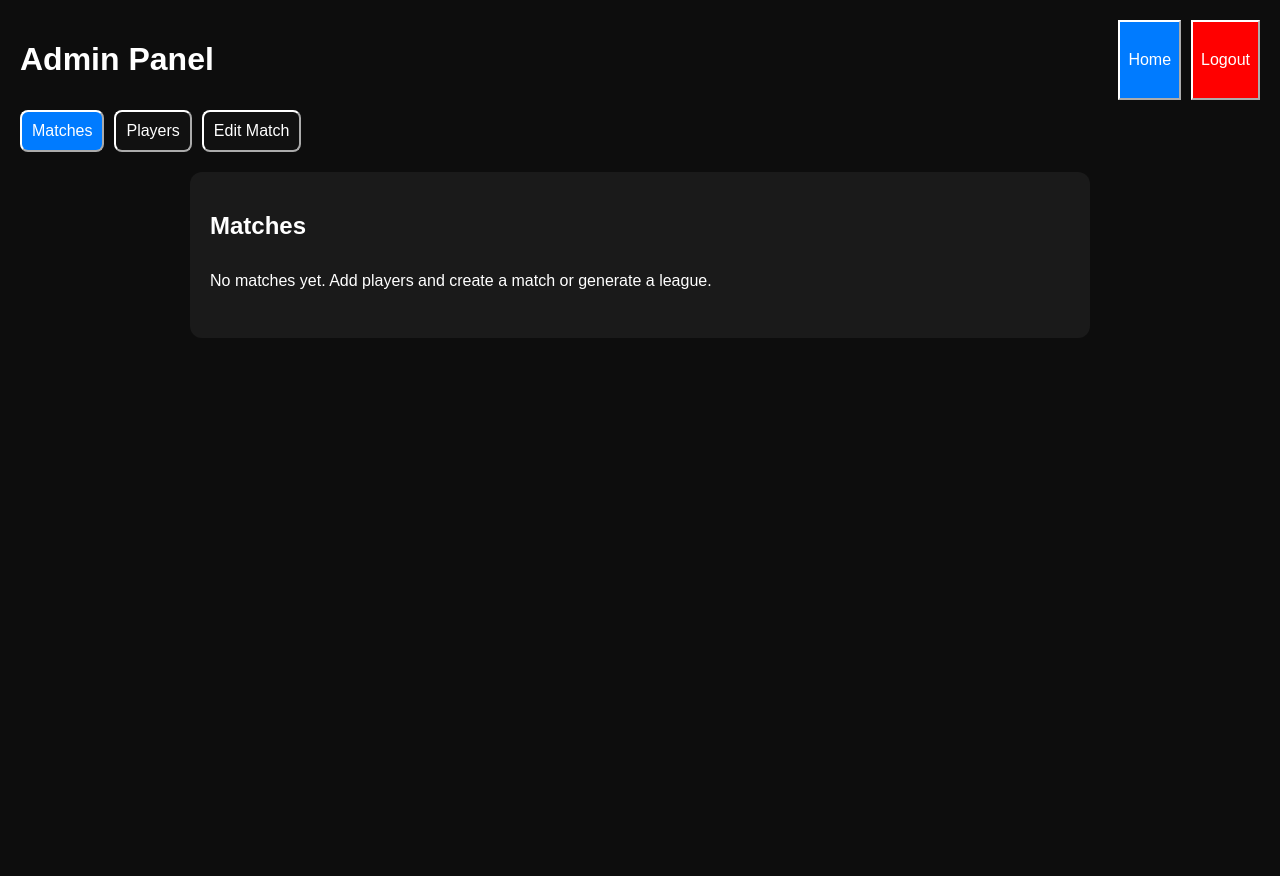
Test: player management feedback › explains an empty list and shows where players are managed
Click the button "Players" at {"x": 153, "y": 131}, box [114,110,192,152]
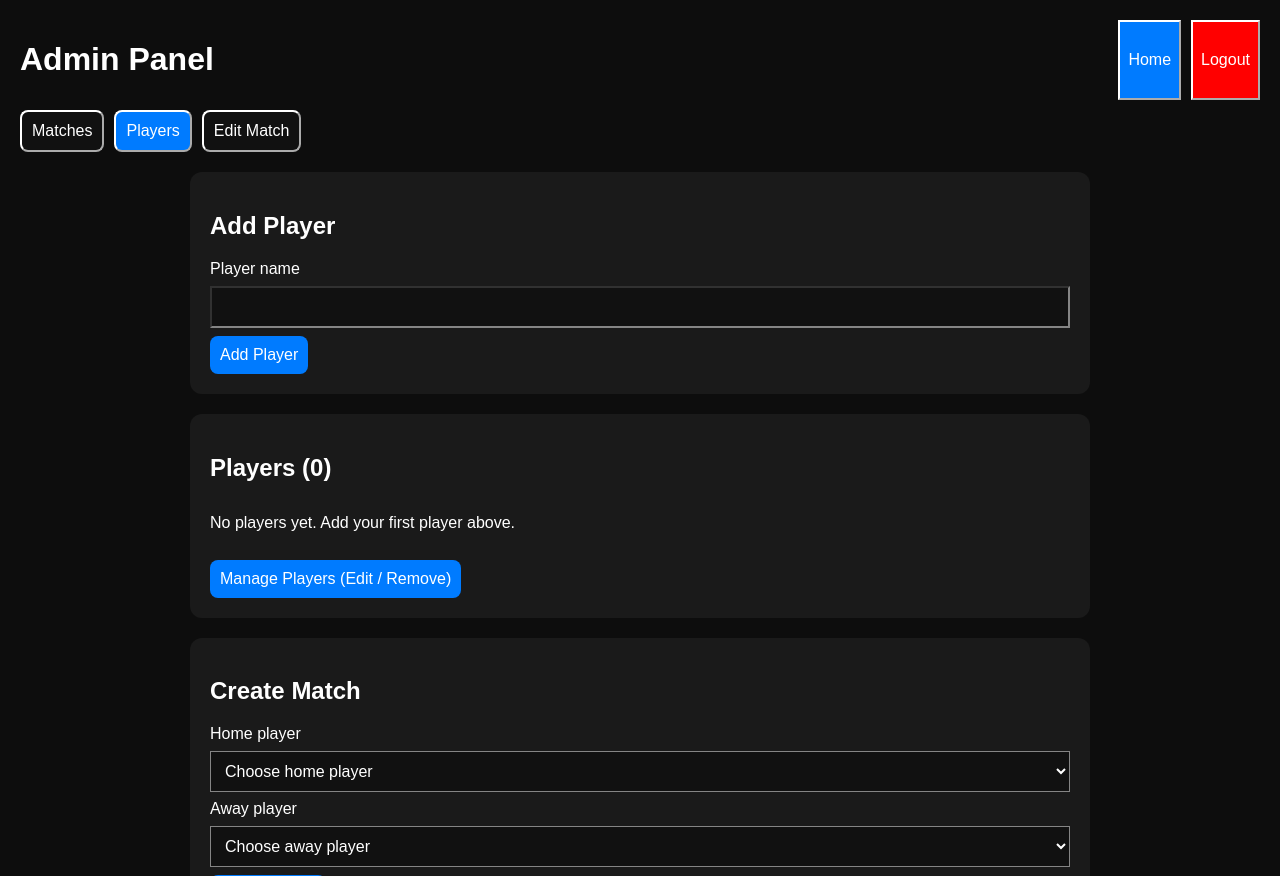
expect the text "No players yet. Add your first player above." is shown: met, box [210,514,515,530]
expect the button "Manage Players (Edit / Remove)" is shown: met, box [210,560,461,598]
